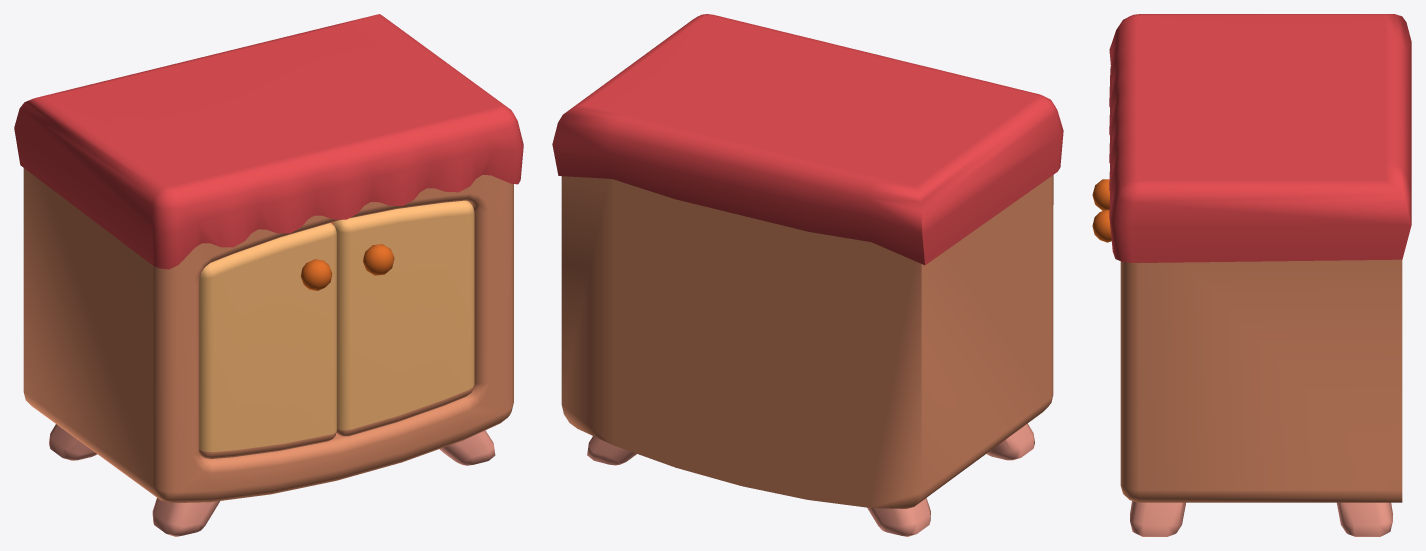
Rendered from armario_cozinha_base_2portas_campestre_pacote.glb.
The picture shows the model from 3 angles, left to right: view 1: azimuth 30°, elevation 25°; view 2: azimuth 150°, elevation 25°; view 3: azimuth 270°, elevation 25°; orthographic projection. The views are drawn at different scales.
Parts seen in each view (by area): view 1: armario_cozinha_base_2portas_campestre_pacote, porta_2, porta_1; view 2: armario_cozinha_base_2portas_campestre_pacote; view 3: armario_cozinha_base_2portas_campestre_pacote, porta_2, porta_1.
Boxes of the visible parts, x1,y1,x2,y2 form: armario_cozinha_base_2portas_campestre_pacote: (14, 14, 523, 536); porta_2: (333, 200, 474, 436); porta_1: (199, 223, 336, 458); armario_cozinha_base_2portas_campestre_pacote: (552, 14, 1063, 536); armario_cozinha_base_2portas_campestre_pacote: (1109, 14, 1411, 536); porta_2: (1092, 209, 1111, 242); porta_1: (1092, 179, 1109, 210).
Size of the model in its own units: 0.9248 by 0.8501 by 0.6793.
Materials: 1 (1 with a texture image).
